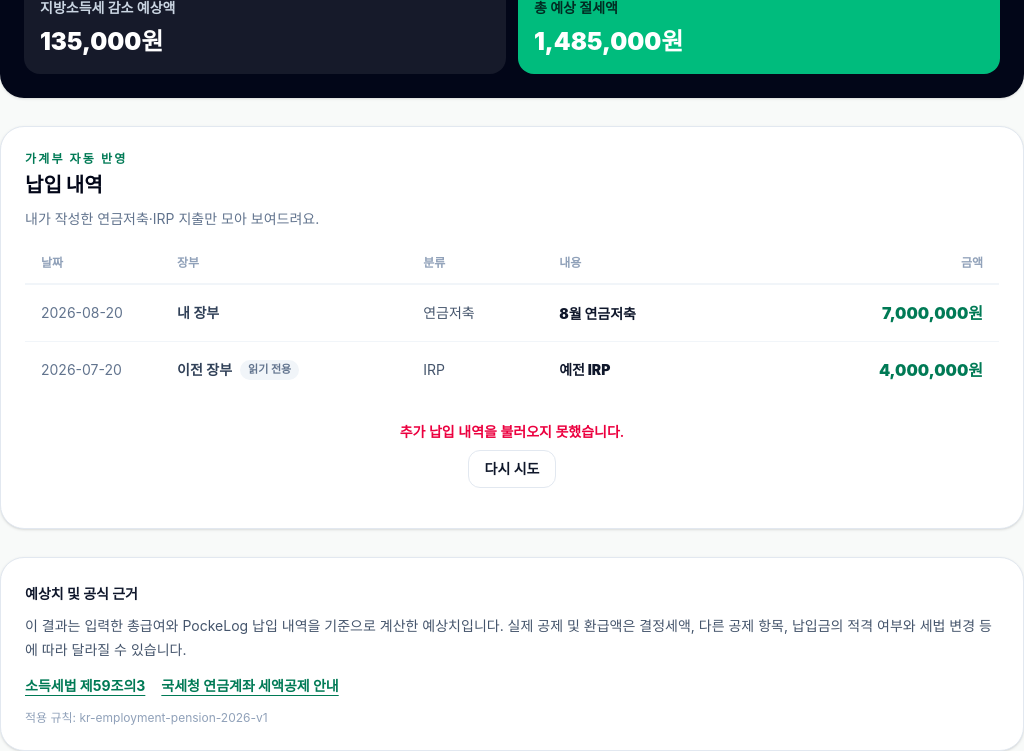
TaxScreen › retries the same cursor after an automatic-page error
(page scrolled)
Expected: the message reads "추가 납입 내역을 불러오지 못했습니다.", x1=400 y1=423 x2=624 y2=440
Click the button "다시 시도" at (512, 469), box x1=468 y1=450 x2=556 y2=488
(page scrolled)
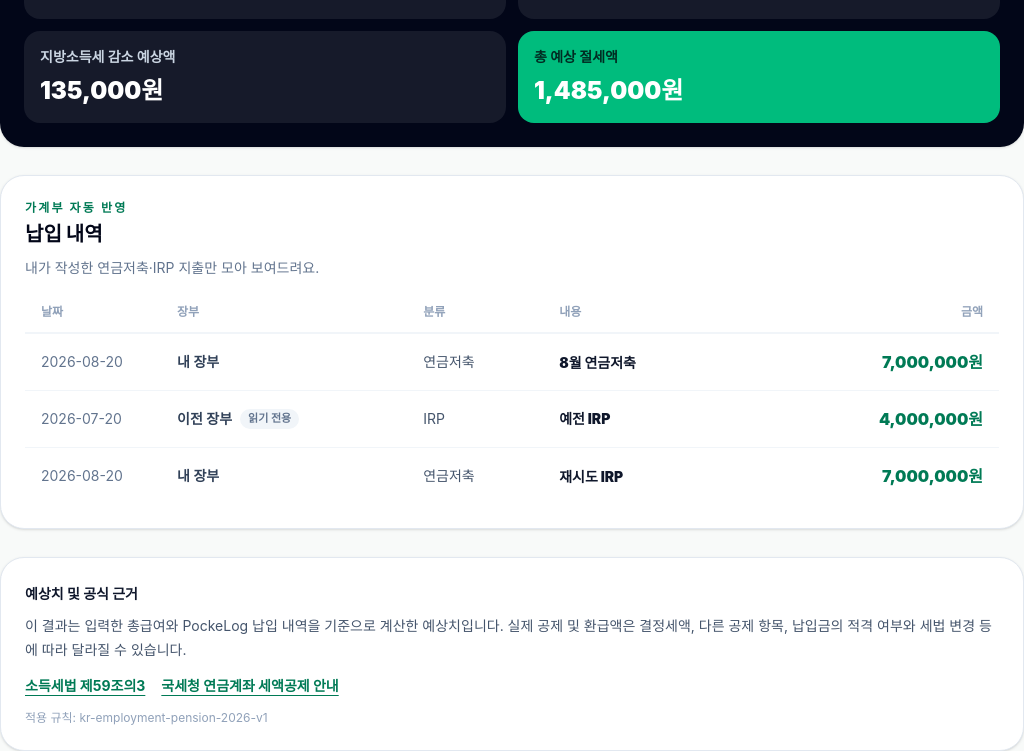
Expected: the list item "2026-08-20 내 장부 연금저축 재시도 IRP 7,000,000원" is shown, x1=25 y1=447 x2=999 y2=504
